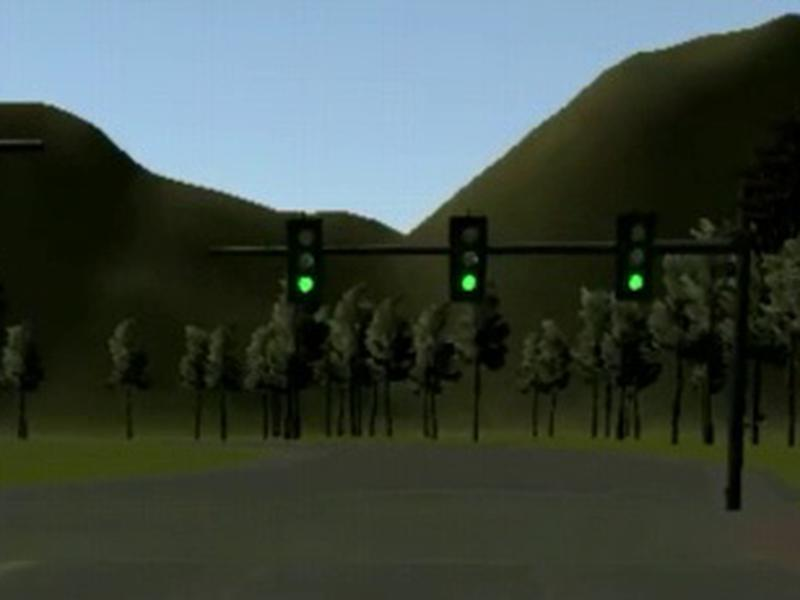Green: (615, 213, 656, 302), (449, 215, 487, 302), (288, 218, 322, 304)
